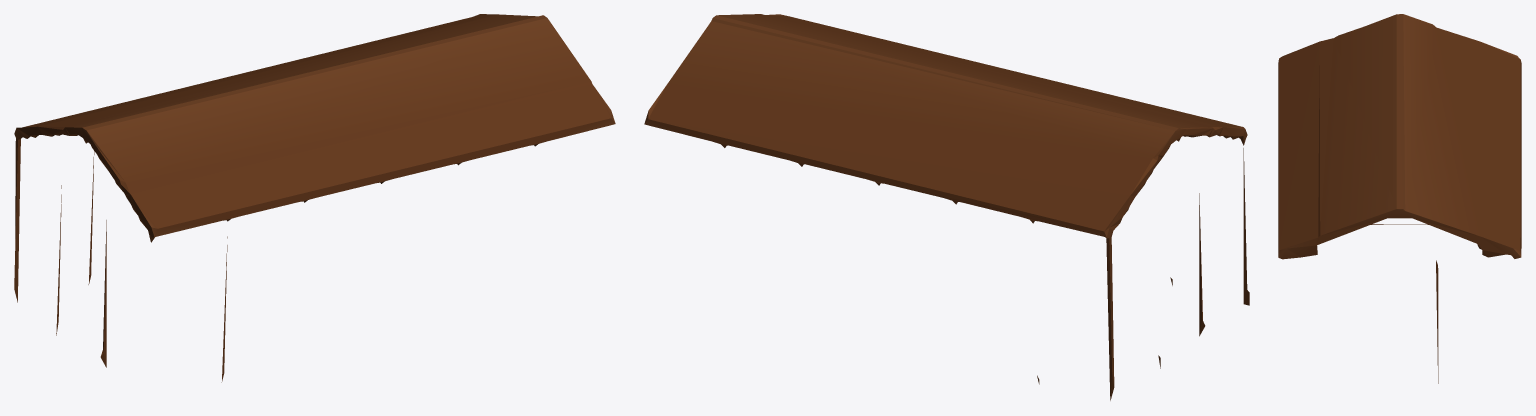
The model's file is Pergolas and open houses(3).glb.
The picture shows the model from 3 angles, left to right: view 1: azimuth 30°, elevation 25°; view 2: azimuth 150°, elevation 25°; view 3: azimuth 270°, elevation 25°; orthographic projection. The views are drawn at different scales.
Parts seen in each view (by area): view 1: Root; view 2: Root; view 3: Root.
Boxes of the visible parts, x1,y1,x2,y2 form: Root: [14, 14, 615, 382]; Root: [644, 14, 1249, 400]; Root: [1278, 14, 1521, 383].
Size of the model in its own units: 10.25 by 4.66 by 5.32.
